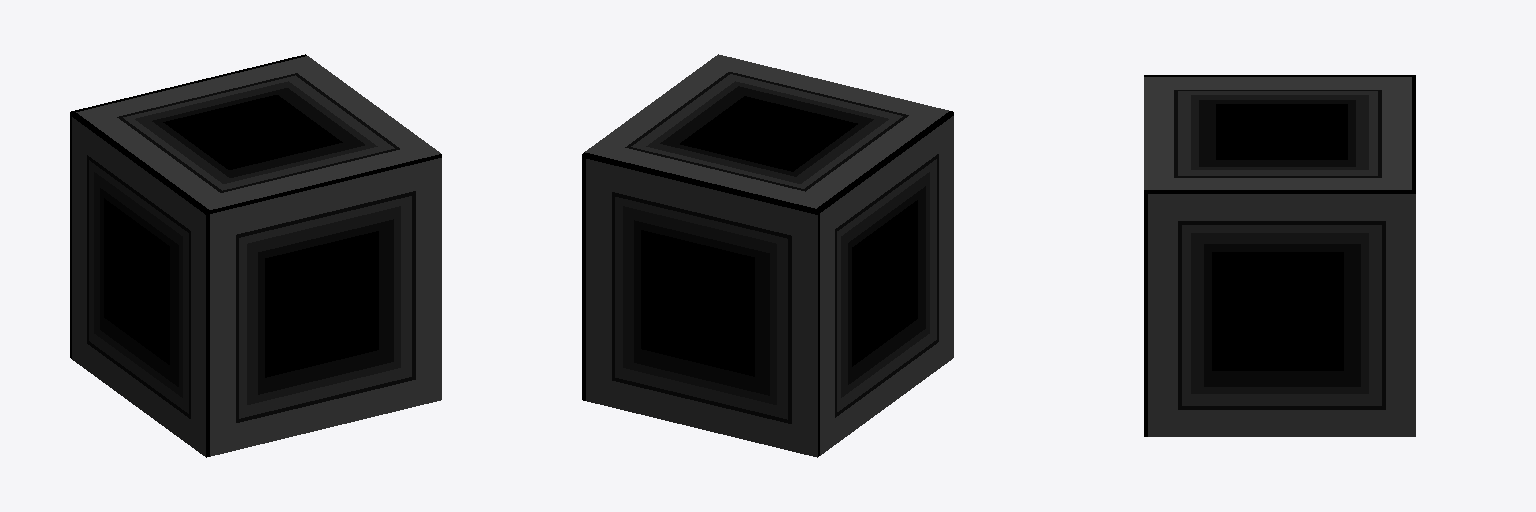
3 views of the same model, side by side, from view 1: azimuth 30°, elevation 25°; view 2: azimuth 150°, elevation 25°; view 3: azimuth 270°, elevation 25° (orthographic).
Visible parts, largest first — view 1: disposal; view 2: disposal; view 3: disposal.
Boxes of the visible parts, x1=… form: disposal: x1=70, y1=54, x2=441, y2=457; disposal: x1=582, y1=54, x2=953, y2=457; disposal: x1=1144, y1=75, x2=1415, y2=436.
Size of the model in its own units: 1 by 1 by 1.
1 materials, 1 textured.